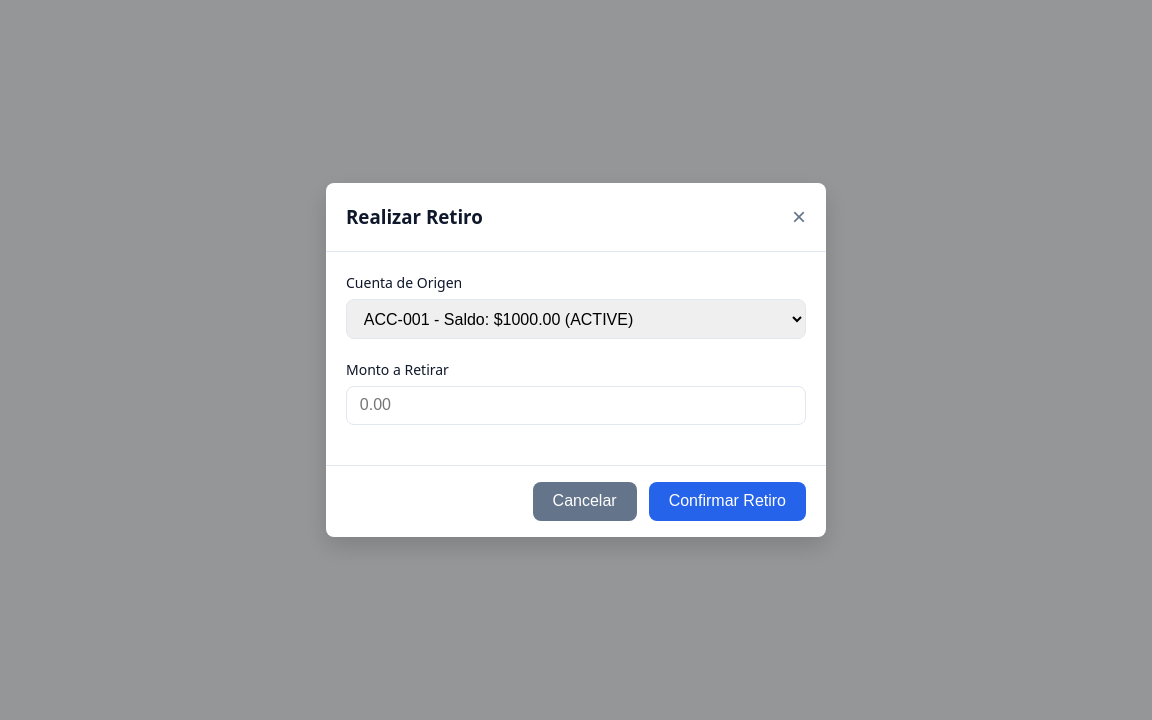
Test: WithdrawFormModal › muestra error de validación cuando el monto de retiro es inválido
Click the button "Confirmar Retiro".
click(727, 501)  # box [649,482,806,521]
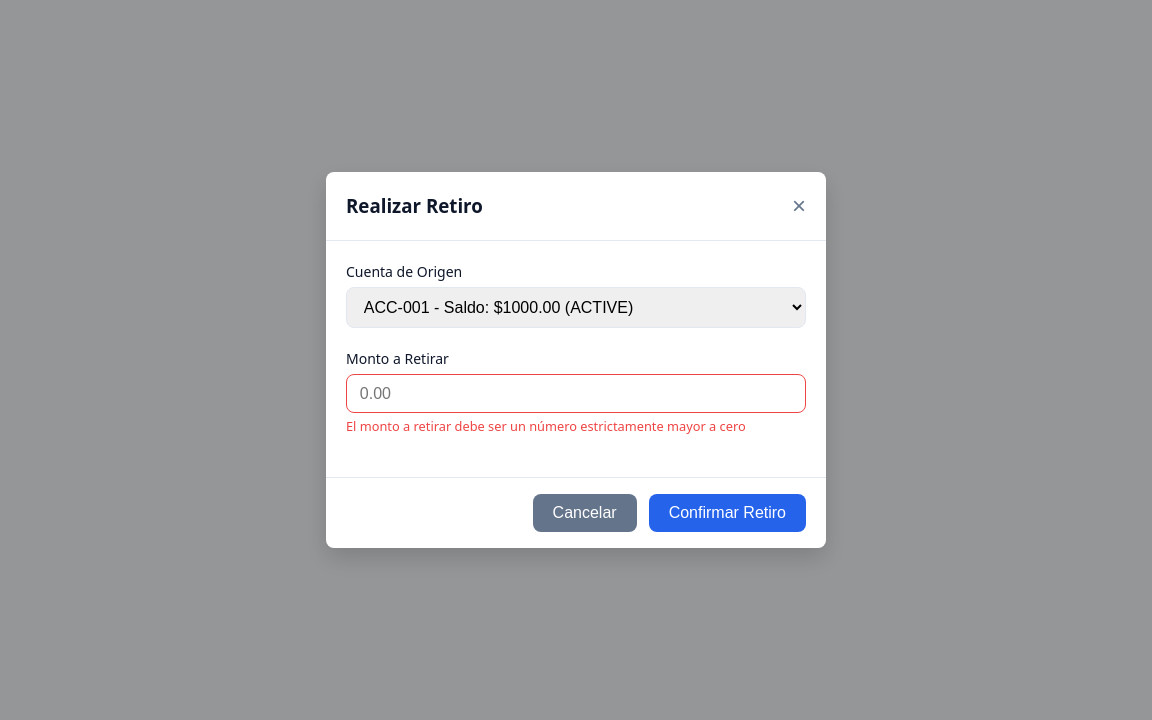
Check: the text "El monto a retirar debe ser un número estrictamente mayor a cero" is shown, box [346,417,806,436]
